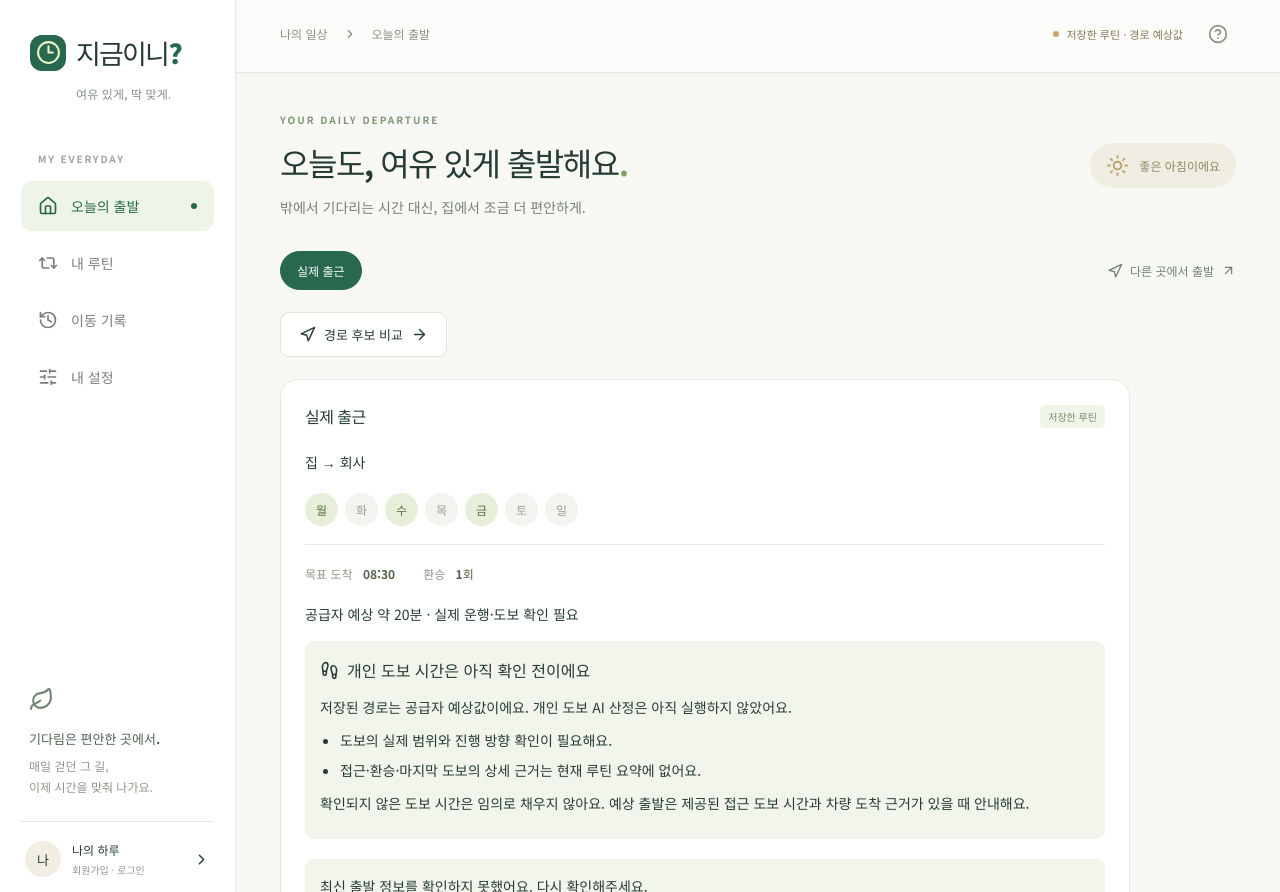
Test: edits the name, weekdays and clears the target via versioned PATCH
The width and height of the screenshot is (1280, 892).
Expected: the heading "실제 출근" is shown, 305,404 -> 366,428
Click the button "내 루틴" at point(118, 263), box 21,238 -> 214,288
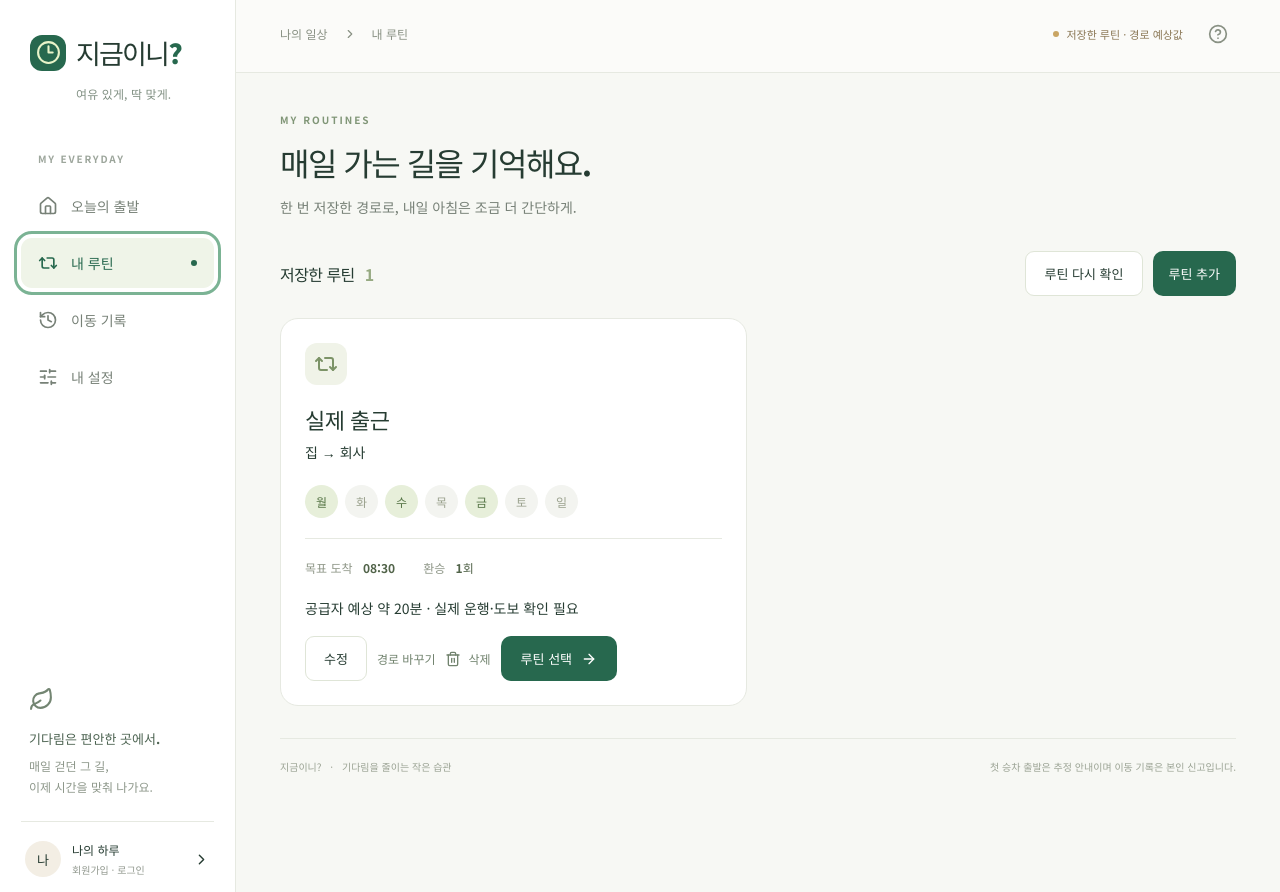
Click the button "수정" at point(336, 658), box 305,636 -> 367,681
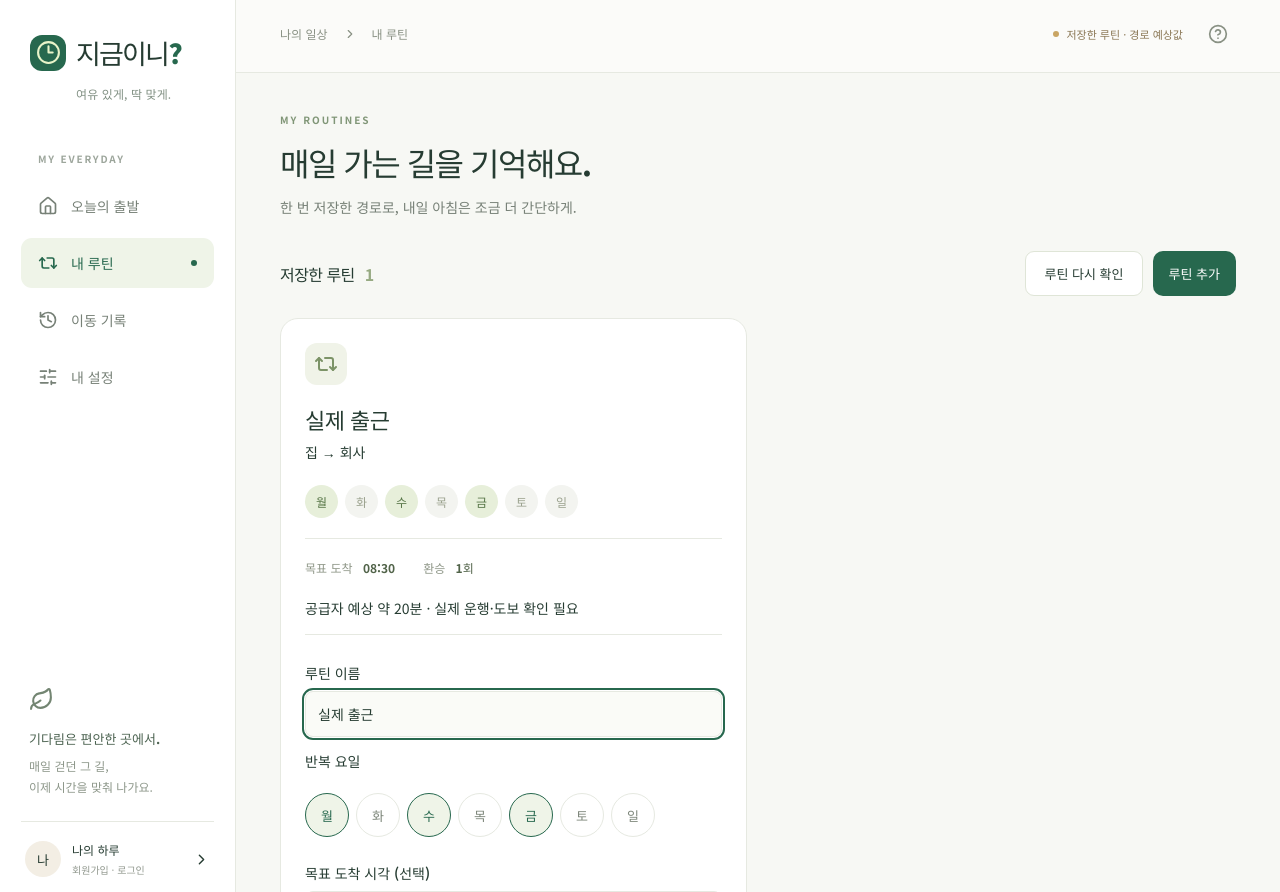
Replace the text in the field labelled "루틴 이름" with "수정한 출근" at point(514, 714), box 305,691 -> 722,737
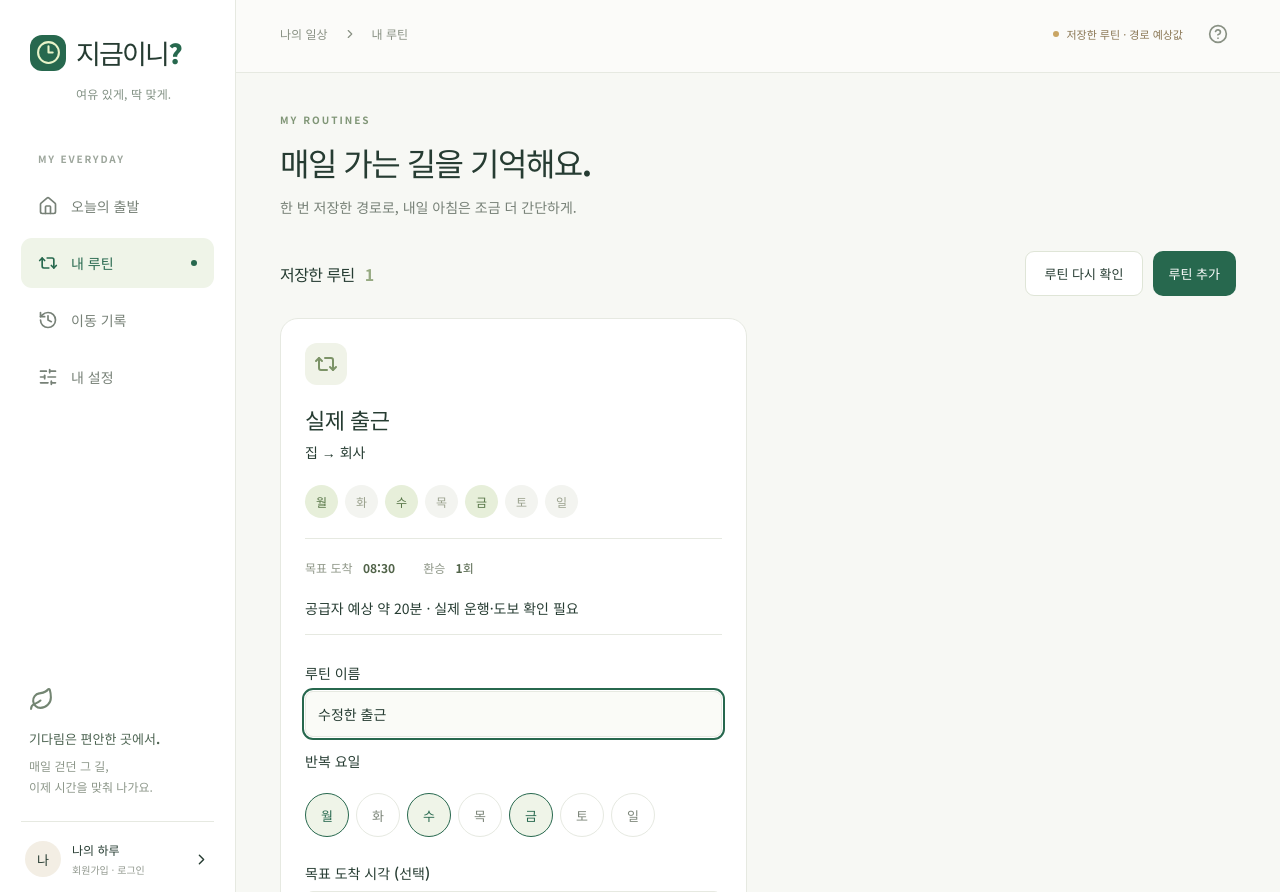
Click the button "수" at point(429, 815), box 407,793 -> 451,837
(page scrolled)
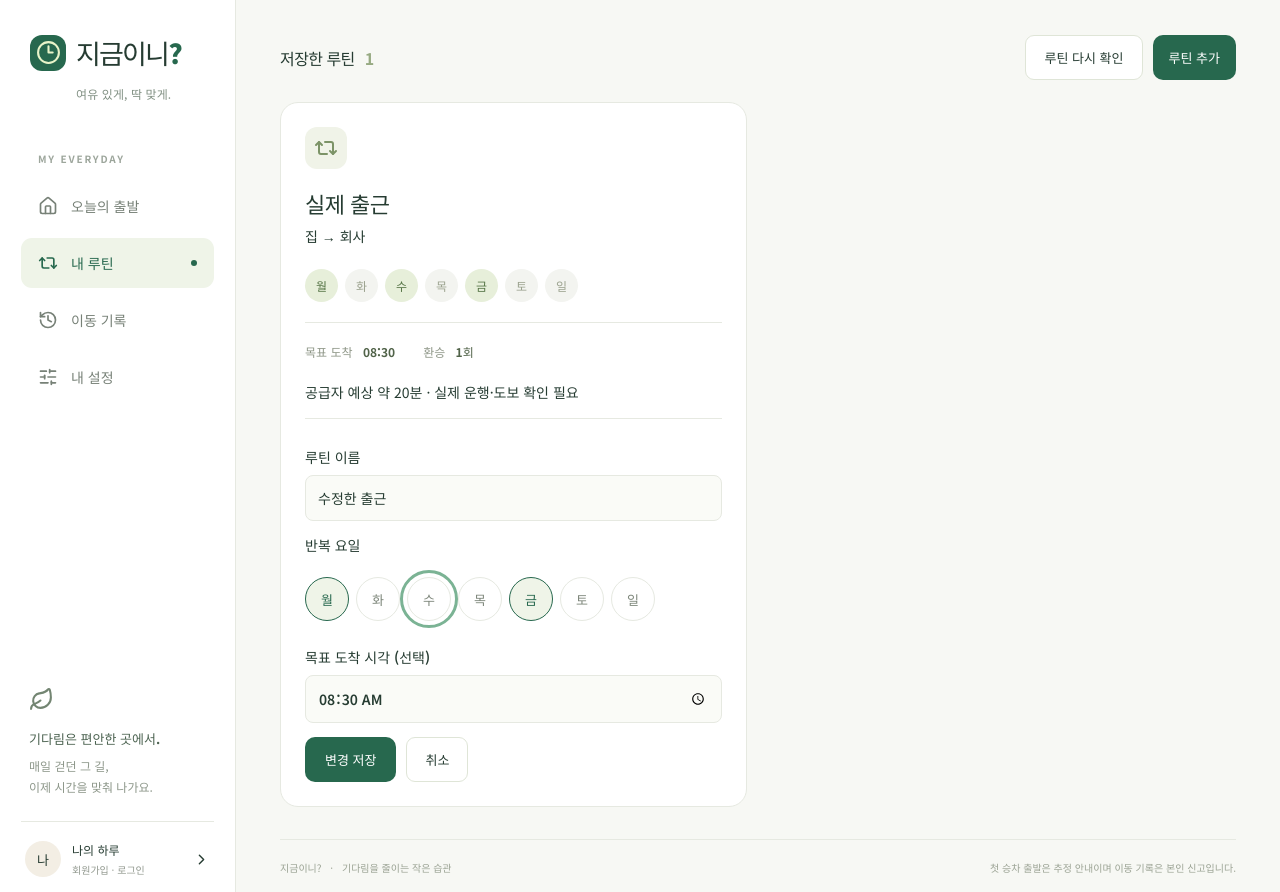
Clear the time field labelled "목표 도착 시각 (선택)" at point(514, 699), box 305,675 -> 722,723
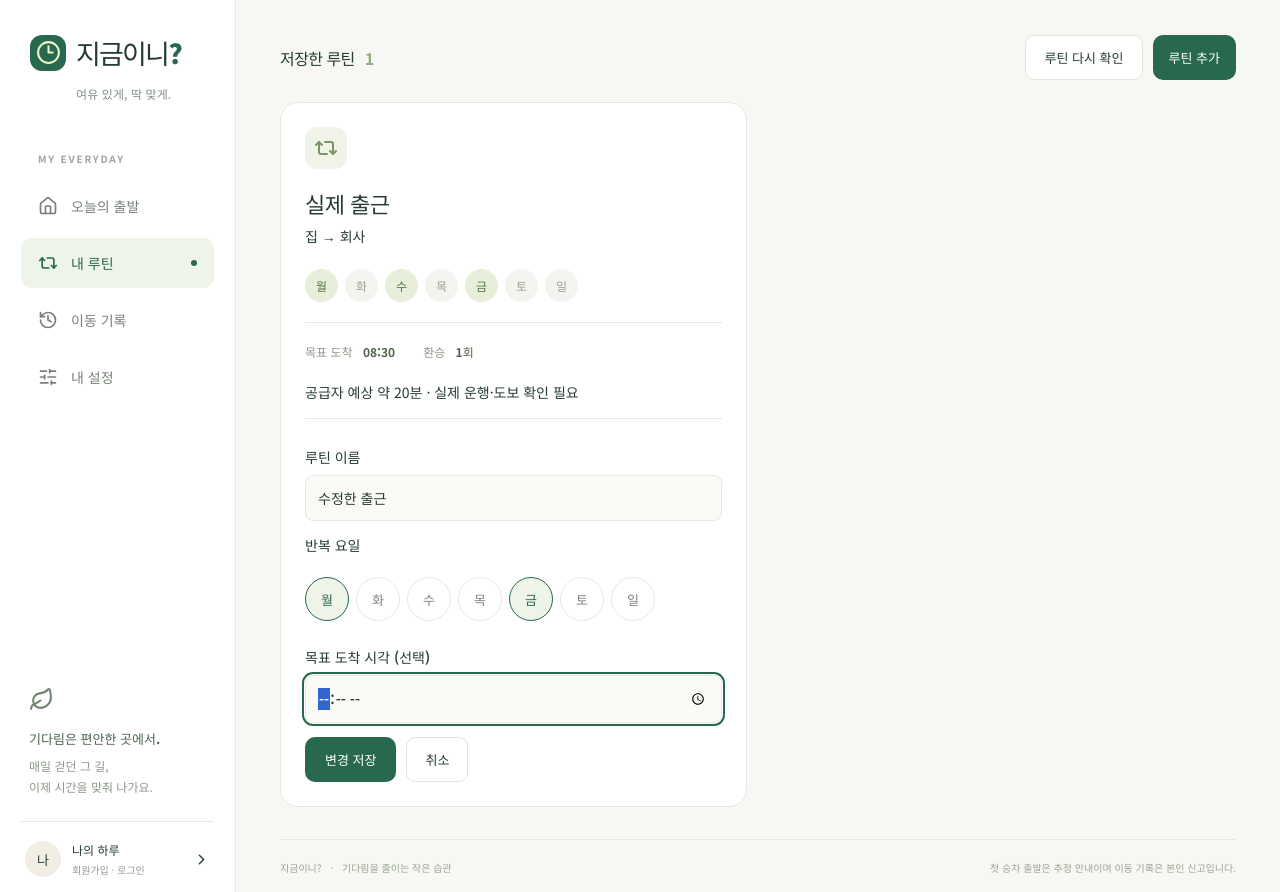
Click the button "변경 저장" at point(351, 760), box 305,737 -> 396,782
(page scrolled)
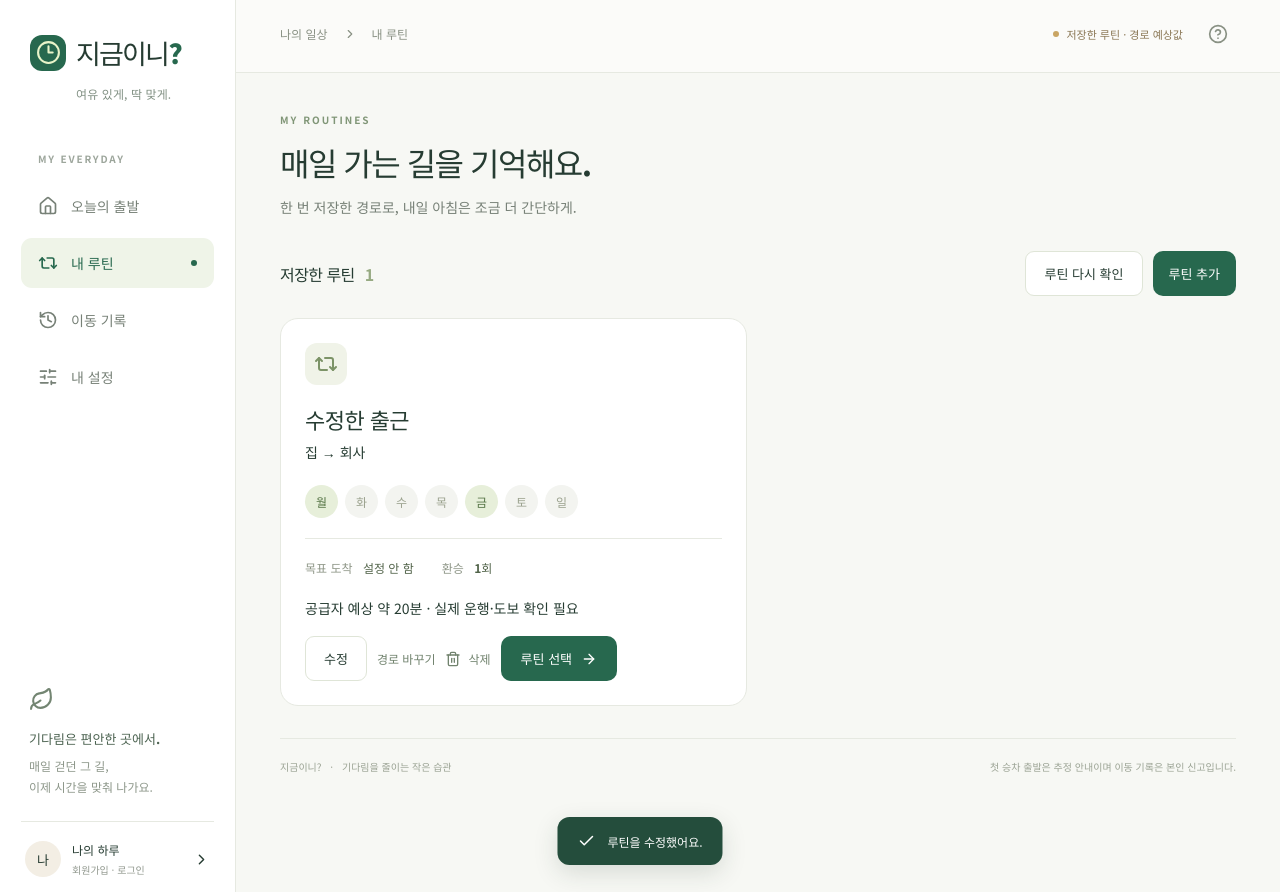
Now the heading "수정한 출근" is shown, box 305,403 -> 409,435
